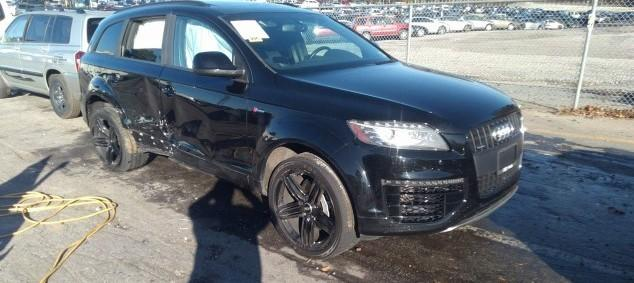Back-bumper: (80, 92, 88, 126)
Back-door: (107, 10, 171, 146)
Back-wheel: (88, 101, 150, 172)
Back-window: (124, 15, 166, 63), (95, 21, 124, 55)
Fender: (246, 98, 362, 183)
Front-bumper: (327, 133, 519, 236)
Front-door: (159, 11, 257, 176)
Front-wheel: (267, 151, 360, 260)
Front-window: (173, 16, 238, 70)
Grille: (466, 110, 523, 204)
Headlight: (345, 119, 453, 151)
Hood: (245, 61, 519, 134)
Mirror: (193, 50, 250, 83)
Quarter-panel: (78, 51, 115, 101)
Rocker-panel: (132, 131, 263, 201)
Roof: (113, 0, 317, 17)
Windshield: (221, 12, 391, 72)
